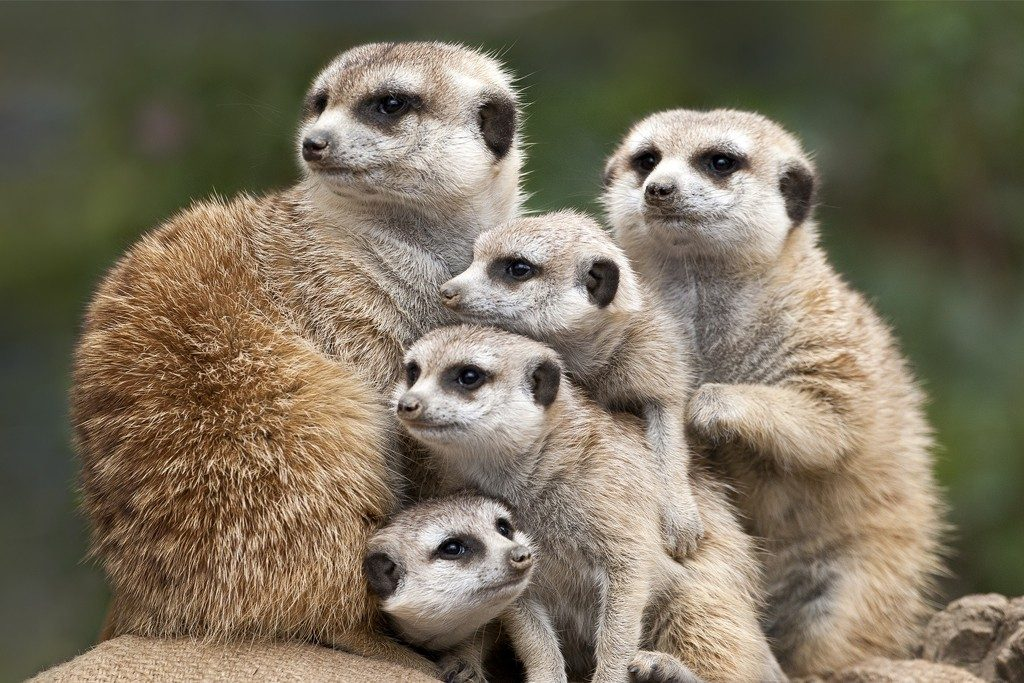meerkat: (262, 24, 543, 229), (616, 81, 866, 302), (371, 483, 580, 683), (373, 324, 593, 506), (448, 204, 616, 365)
